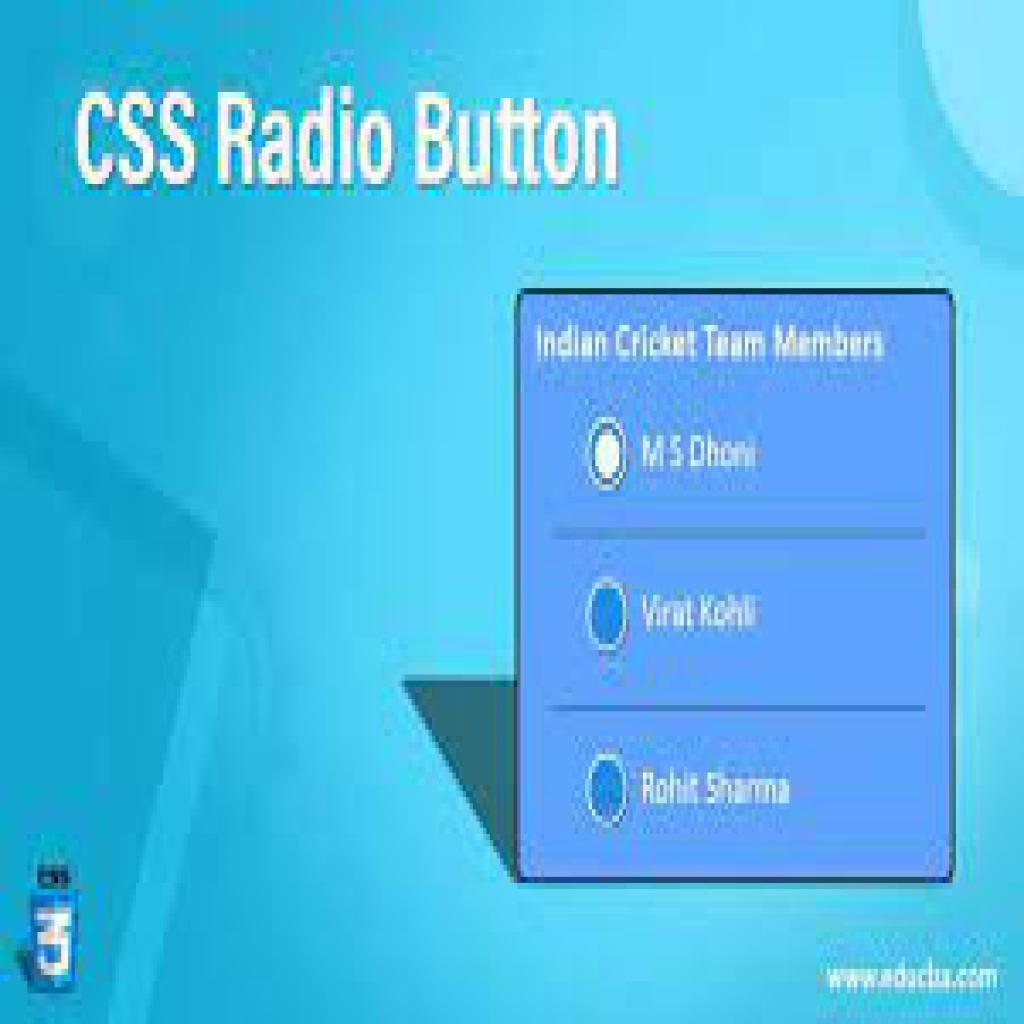radio: (582, 746, 635, 837), (584, 573, 638, 660), (587, 409, 628, 501)
